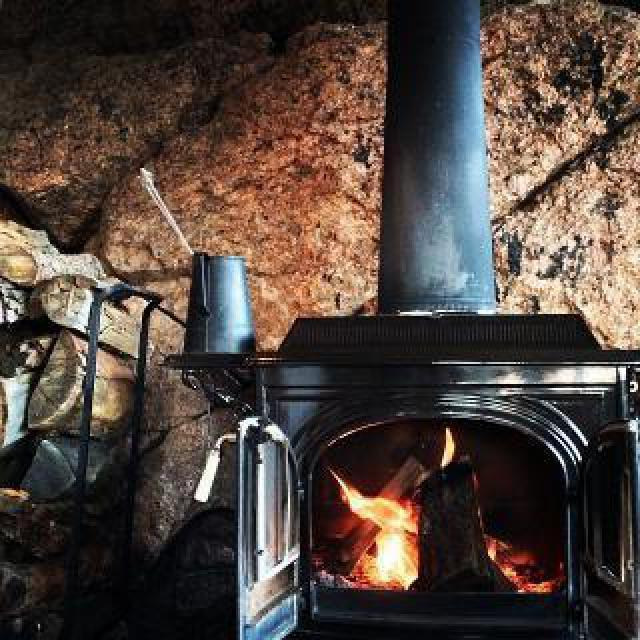Fire: (324, 428, 424, 588), (478, 522, 558, 600)
